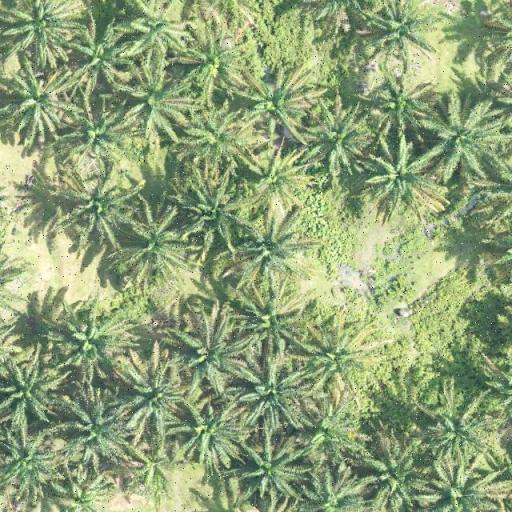Ganoderma: (252, 158, 296, 204)
